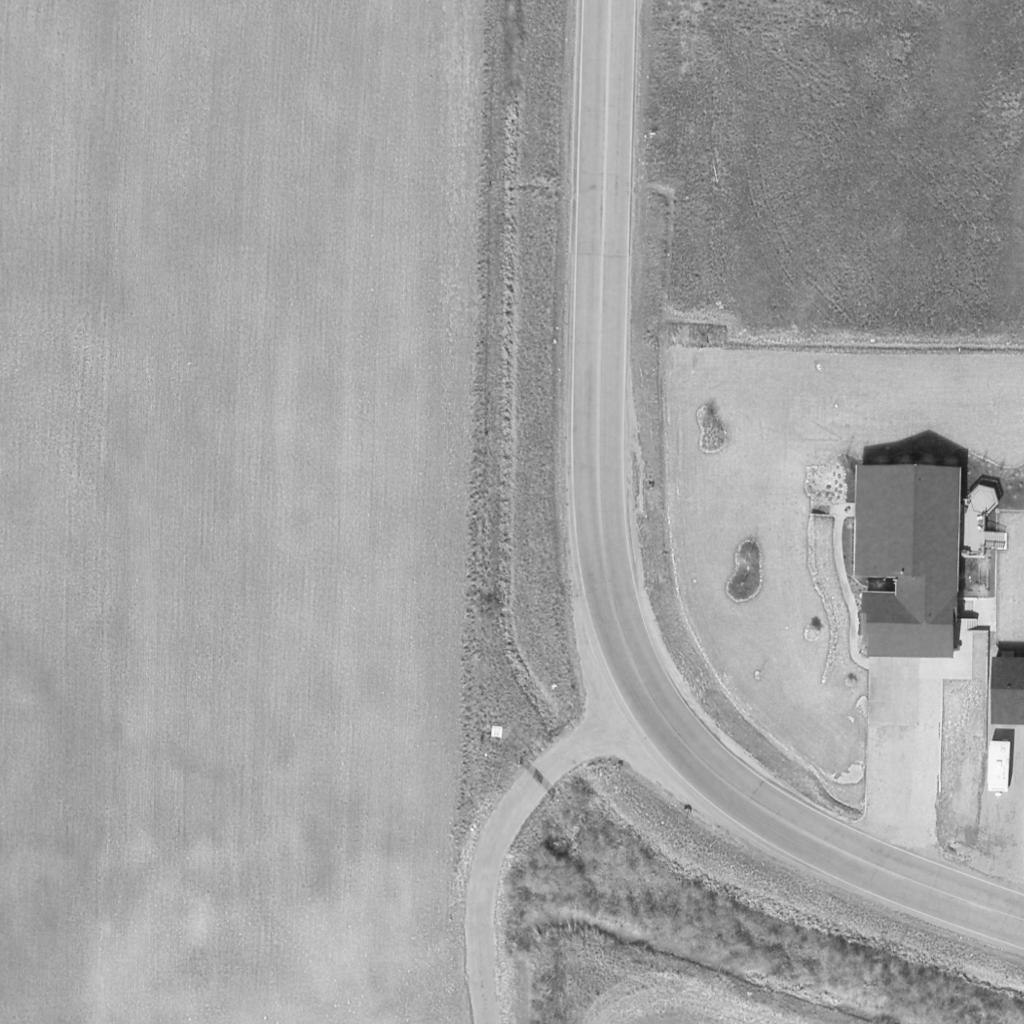vehicle: (989, 740, 1017, 796)
